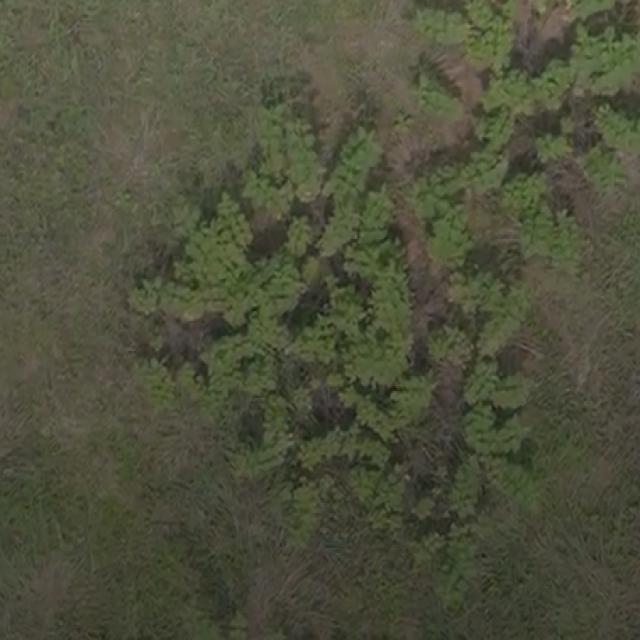notMangoTree: (118, 0, 640, 562)
